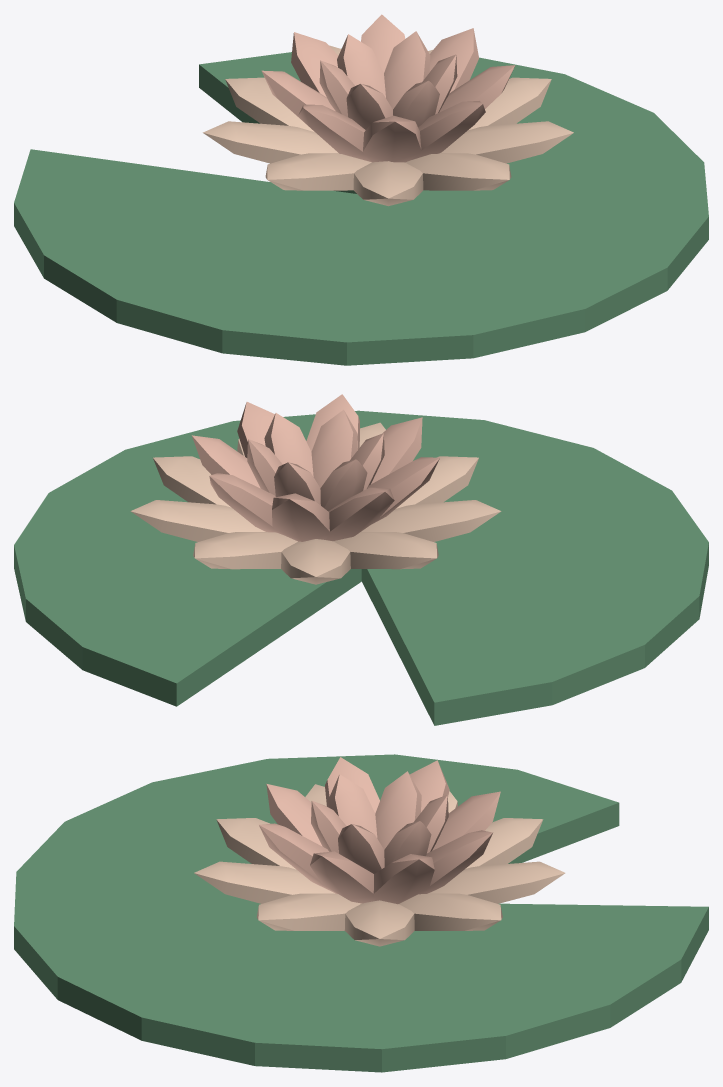
Rendered from lily.glb.
The picture shows the model from 3 angles, top to bottom: view 1: azimuth 30°, elevation 25°; view 2: azimuth 150°, elevation 25°; view 3: azimuth 270°, elevation 25°; orthographic projection.
Parts seen in each view (by area): view 1: LilyLeaf, FlowersPetals, FlowersBlossom; view 2: LilyLeaf, FlowersPetals, FlowersBlossom; view 3: LilyLeaf, FlowersPetals, FlowersBlossom.
Part boxes in pixels (bbox=[...]): LilyLeaf: bbox=[14, 48, 708, 365]; FlowersPetals: bbox=[261, 14, 515, 162]; FlowersBlossom: bbox=[203, 45, 573, 206]; LilyLeaf: bbox=[14, 410, 708, 725]; FlowersPetals: bbox=[191, 394, 439, 541]; FlowersBlossom: bbox=[130, 422, 501, 584]; LilyLeaf: bbox=[14, 754, 708, 1072]; FlowersPetals: bbox=[259, 757, 500, 904]; FlowersBlossom: bbox=[194, 784, 565, 946].
Bounding box in the file's own units: 0.6775 × 0.1552 × 0.6752.
